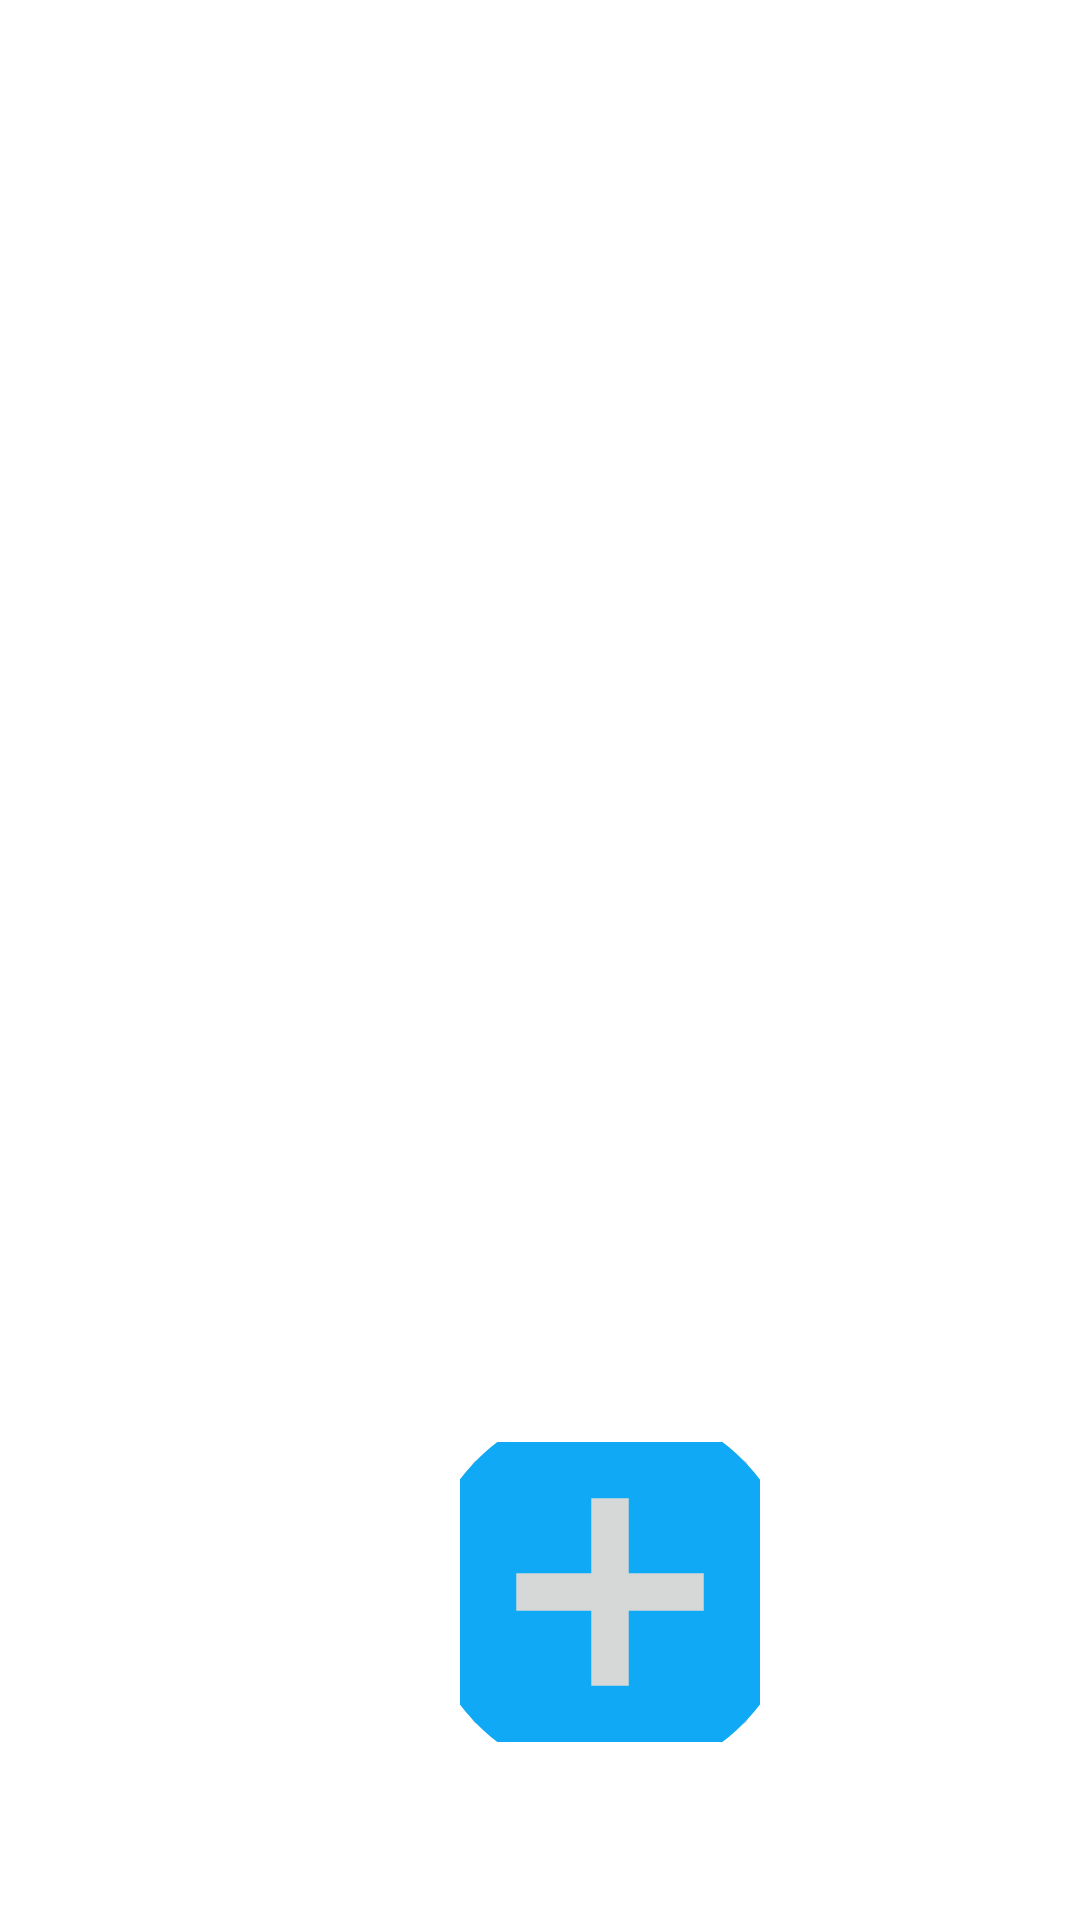

Icon bounding boxes for this 1080 × 1920 phone screenshot, format Rect(x1, y1, x2, y2):
add circle: Rect(460, 1442, 760, 1742)
